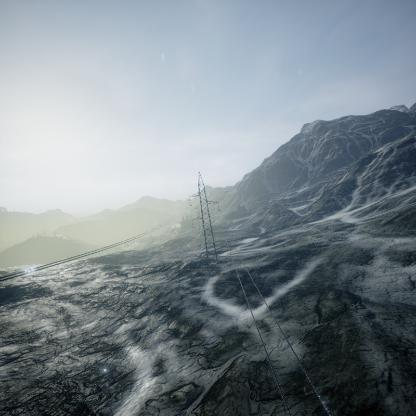tower: (189, 171, 222, 264)
